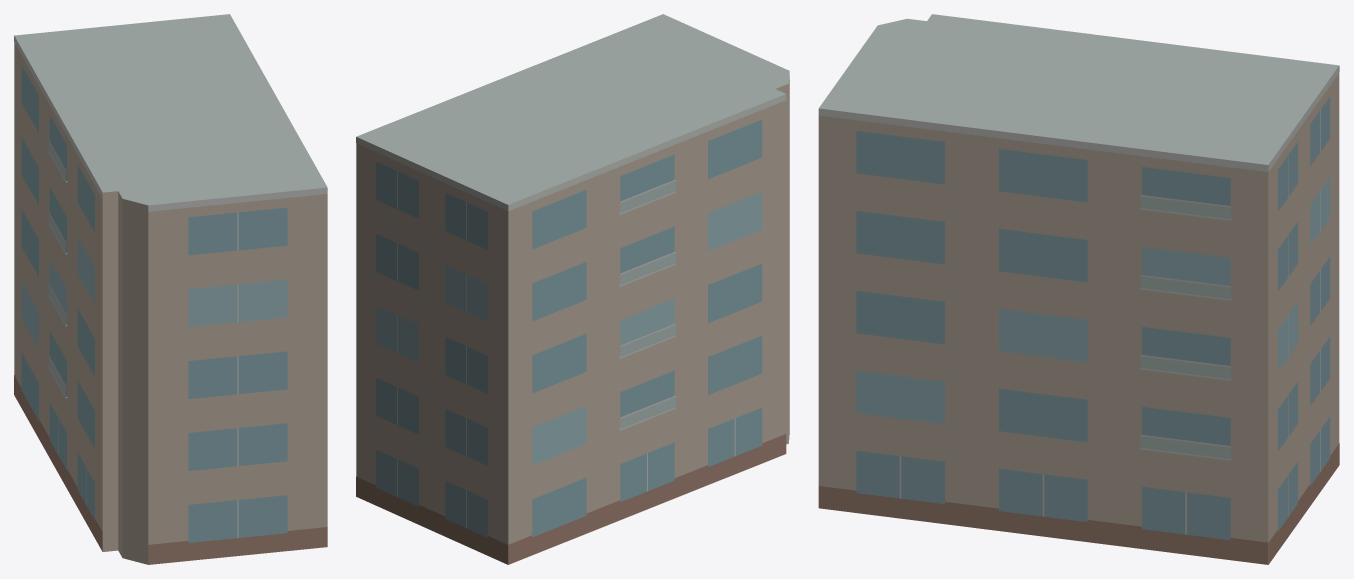
Rendered from survey-upis-32876110.glb.
3 renders of one model, left to right at view 1: azimuth 30°, elevation 25°; view 2: azimuth 150°, elevation 25°; view 3: azimuth 270°, elevation 25°, orthographic. The views are drawn at different scales.
Visible parts, largest first — view 1: survey-upis-32876110.tmp; view 2: survey-upis-32876110.tmp; view 3: survey-upis-32876110.tmp.
Boxes of the visible parts, x1,y1,x2,y2 form: survey-upis-32876110.tmp: [14, 14, 327, 564]; survey-upis-32876110.tmp: [356, 14, 789, 564]; survey-upis-32876110.tmp: [818, 14, 1339, 564].
Bounding box in the file's own units: 11.24 × 13.85 × 16.36.
